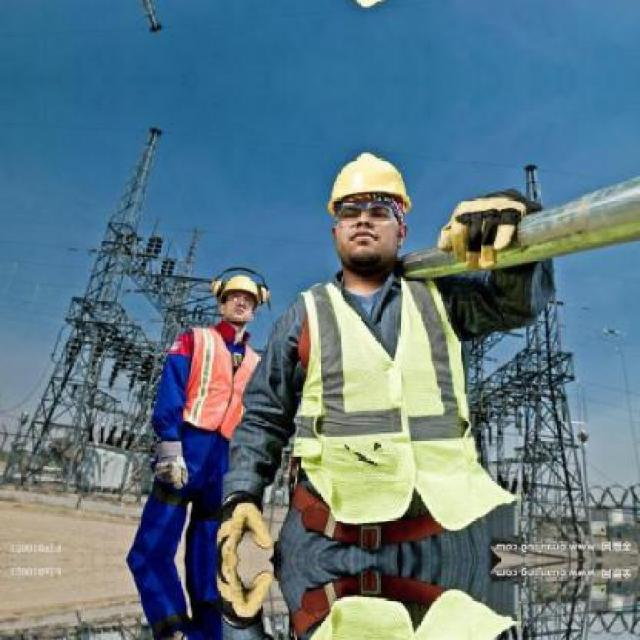Reflective-Jacket: (283, 271, 486, 535), (164, 320, 264, 446)
Safety-Helmet: (317, 146, 421, 220), (203, 265, 274, 312)
